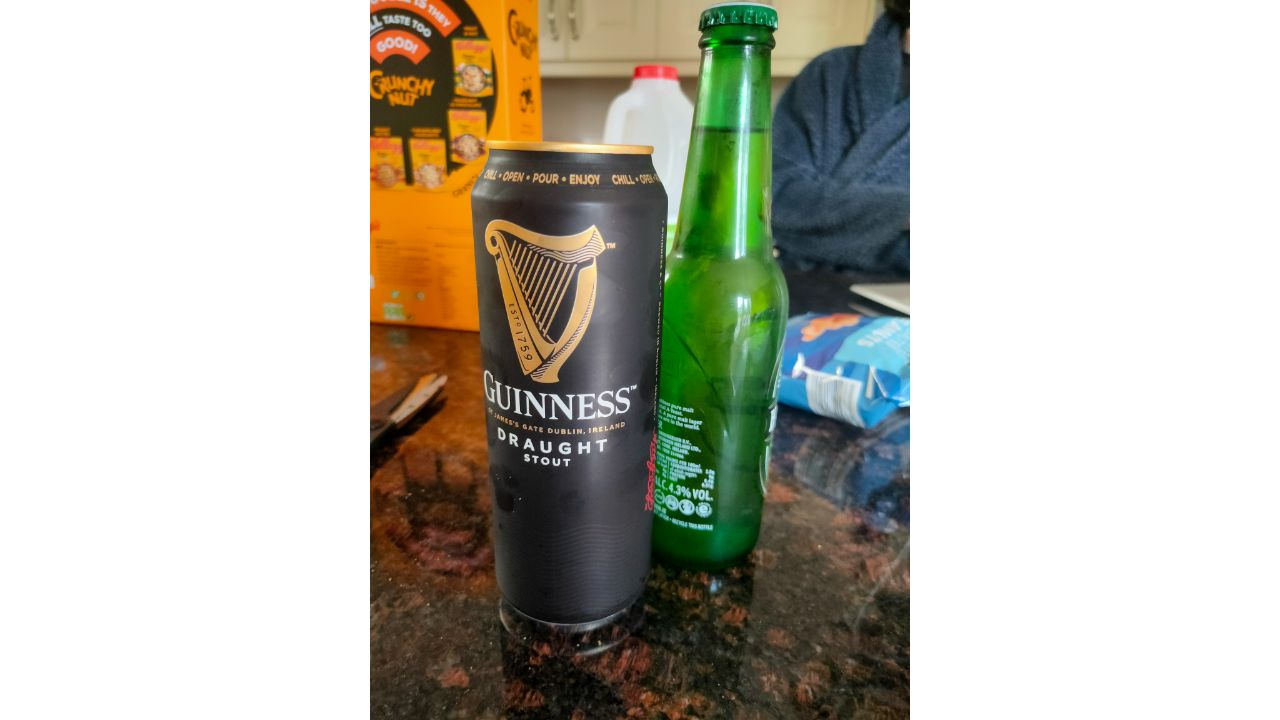Can: (471, 141, 668, 635)
